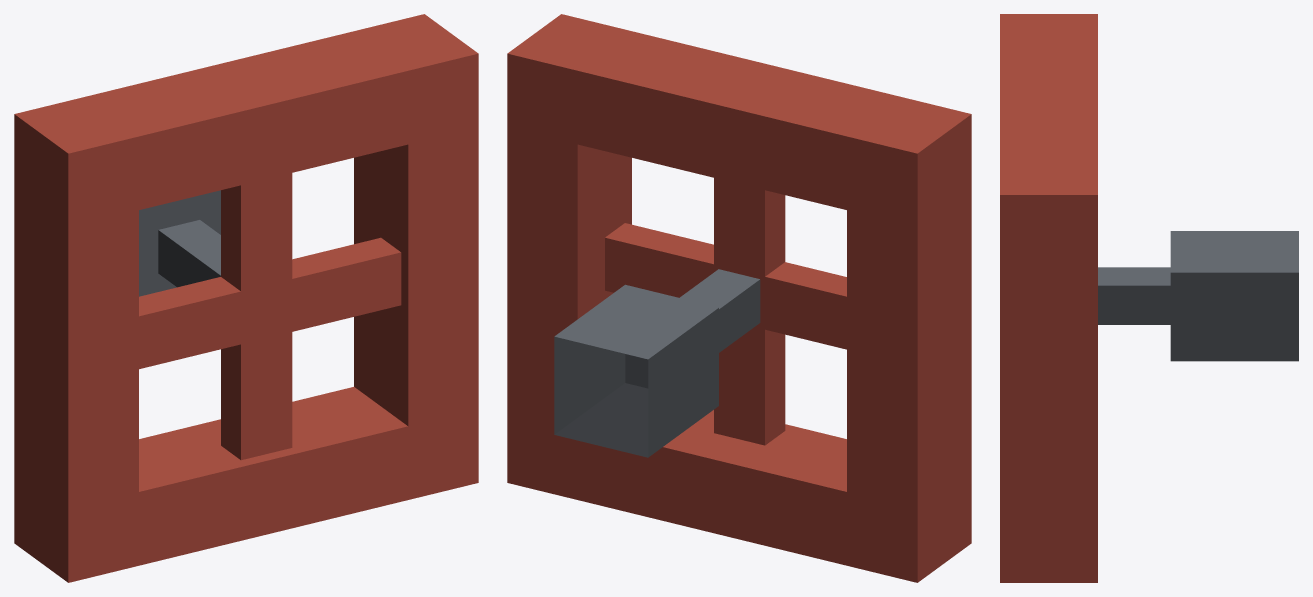
Rendered from AI_Env_Sewer_Valve.fbx.
3 renders of one model, left to right at view 1: azimuth 30°, elevation 25°; view 2: azimuth 150°, elevation 25°; view 3: azimuth 270°, elevation 25°, orthographic. The views are drawn at different scales.
Parts seen in each view (by area): view 1: AI_Env_Sewer_Valve; view 2: AI_Env_Sewer_Valve; view 3: AI_Env_Sewer_Valve.
Boxes of the visible parts, box(x1,y1,x2,y2) form: AI_Env_Sewer_Valve: box(14, 14, 478, 582); AI_Env_Sewer_Valve: box(507, 14, 971, 582); AI_Env_Sewer_Valve: box(1000, 14, 1298, 582).
Bounding box in the file's own units: 0.5948 × 0.5948 × 0.4152.
